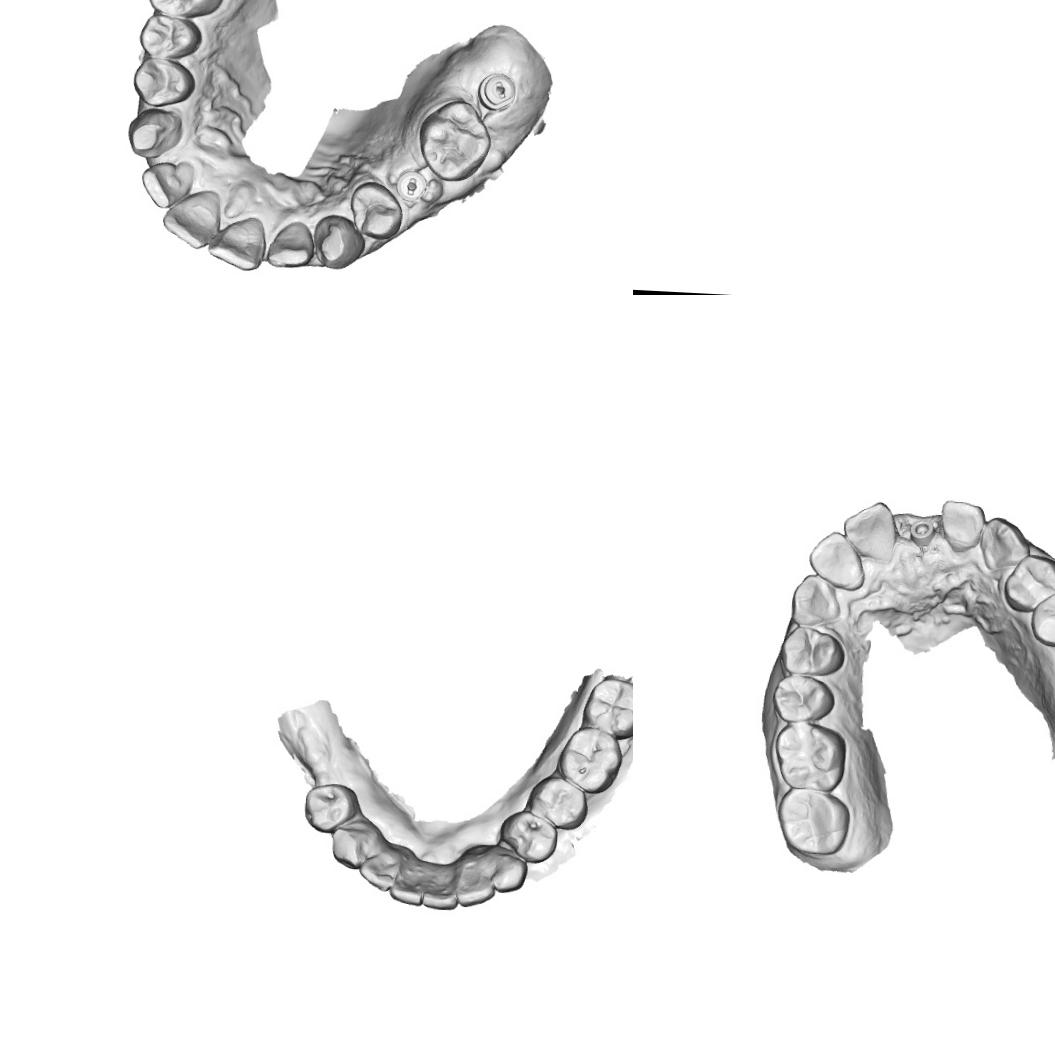canine: (124, 104, 185, 162), (308, 211, 364, 272), (328, 814, 384, 872), (978, 515, 1032, 572), (789, 572, 843, 627), (488, 853, 528, 895)
implant: (907, 518, 935, 547)
implant_minus: (474, 68, 520, 114), (391, 165, 431, 206)
incisor: (158, 186, 225, 252), (806, 529, 868, 591), (204, 212, 268, 272), (840, 498, 900, 562), (138, 158, 198, 211), (264, 218, 316, 270), (938, 498, 986, 554), (356, 842, 402, 893), (386, 862, 426, 908), (454, 866, 495, 909), (420, 871, 459, 913)
molar: (414, 95, 494, 184), (770, 720, 847, 792), (774, 786, 851, 856), (555, 724, 624, 796), (577, 673, 633, 740), (144, 0, 229, 21)
premolar: (346, 177, 406, 245), (523, 772, 590, 832), (128, 53, 198, 110), (135, 8, 205, 62), (496, 808, 560, 864), (778, 624, 846, 676), (770, 672, 835, 724), (1002, 552, 1055, 614), (301, 780, 359, 834), (1027, 584, 1055, 648)
